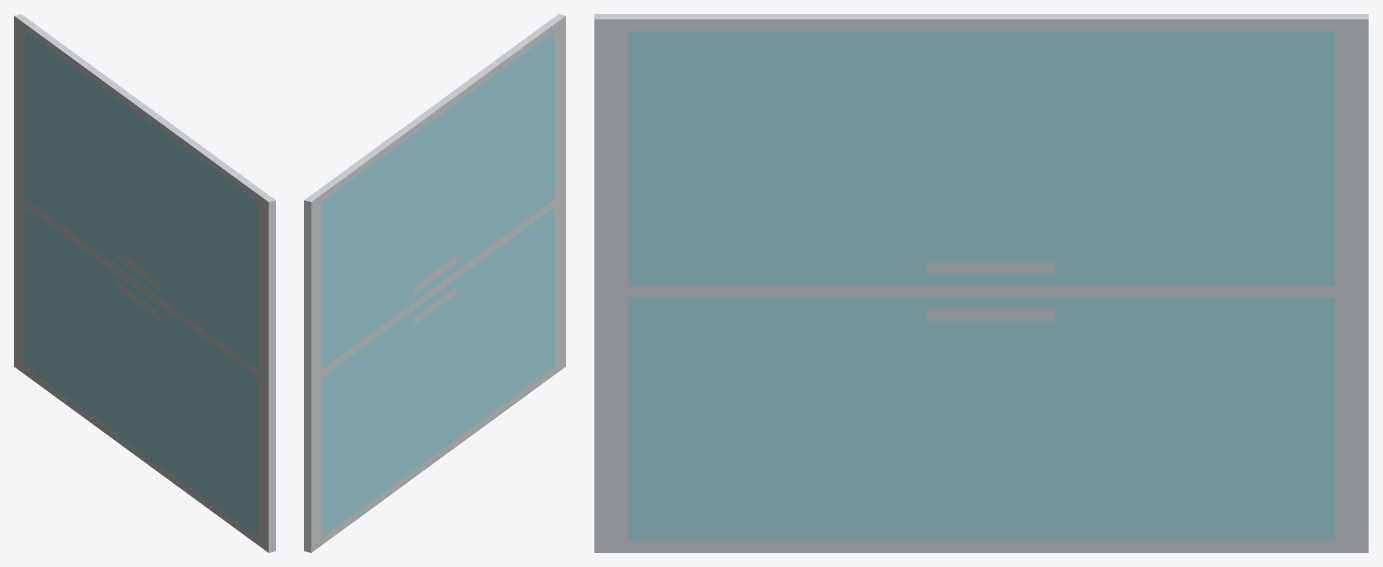
File: tinker.obj
3 views of the same model, side by side, from view 1: azimuth 30°, elevation 25°; view 2: azimuth 150°, elevation 25°; view 3: azimuth 270°, elevation 25° (orthographic). The views are drawn at different scales.
Visible parts, largest first — view 1: group_0_11593967, group_0_14541540; view 2: group_0_11593967, group_0_14541540; view 3: group_0_11593967, group_0_14541540.
Boxes of the visible parts, left/top/right/bottom form: group_0_11593967: left=25, top=31, right=257, bottom=536; group_0_14541540: left=14, top=14, right=275, bottom=552; group_0_11593967: left=322, top=31, right=554, bottom=536; group_0_14541540: left=304, top=14, right=565, bottom=552; group_0_11593967: left=628, top=31, right=1334, bottom=541; group_0_14541540: left=594, top=14, right=1368, bottom=552.
Bounding box in the file's own units: 1 × 46 × 60.5.
